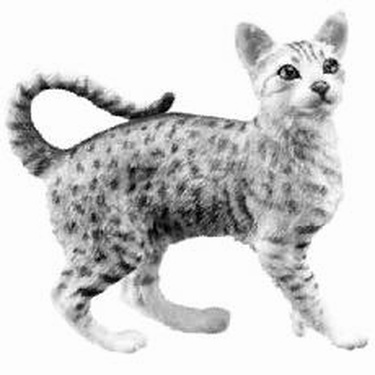cat: (30, 8, 364, 350)
